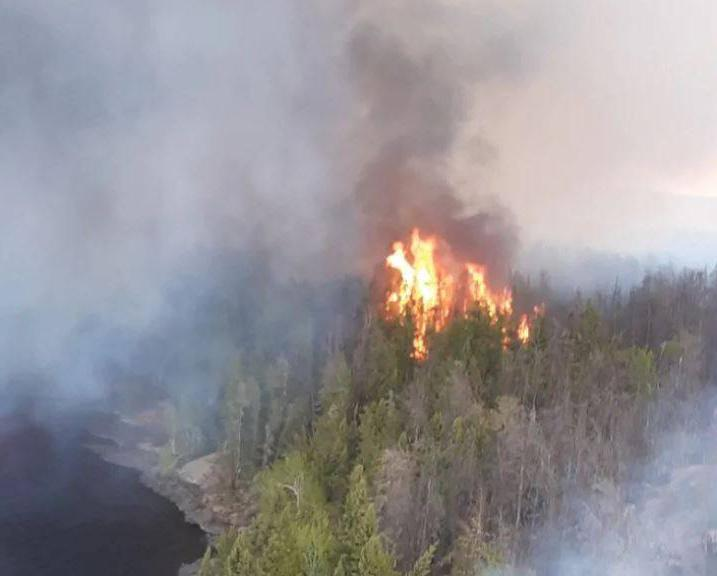fire: (381, 224, 530, 363)
